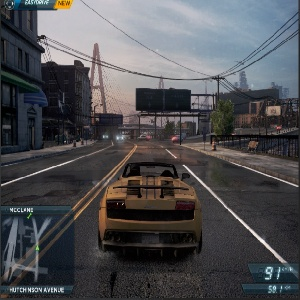ad: (266, 104, 282, 116)
building: (42, 61, 94, 140)
road sign: (135, 88, 191, 111), (202, 123, 208, 151)
tree: (209, 99, 234, 141)
vehicle: (136, 132, 152, 141), (168, 135, 185, 143), (114, 132, 124, 143), (101, 132, 110, 141)
